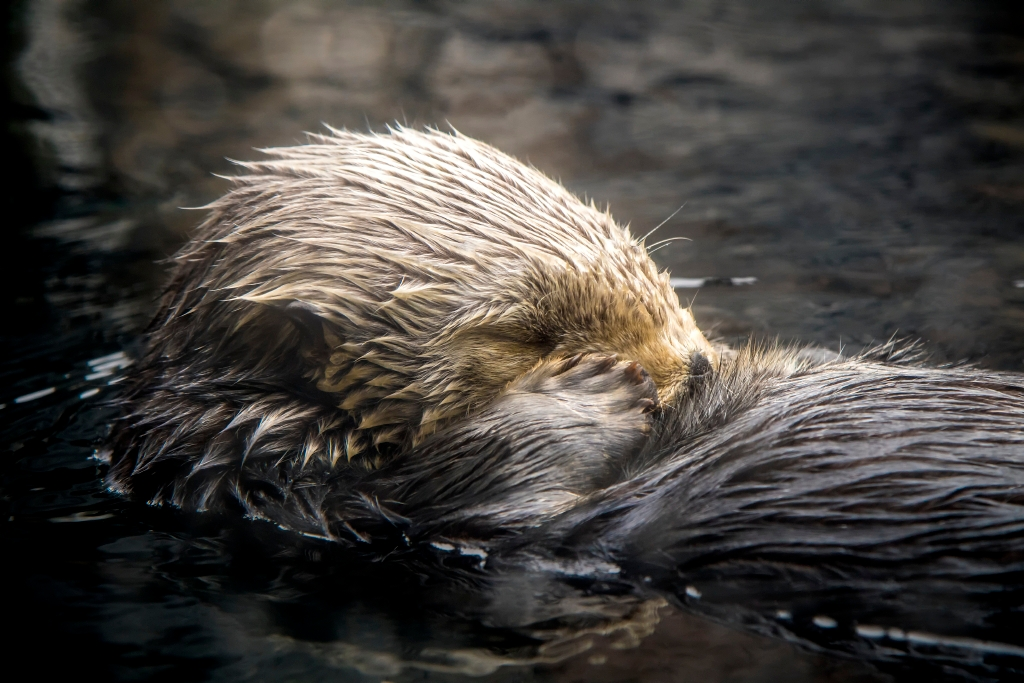otter: (74, 55, 1024, 598)
